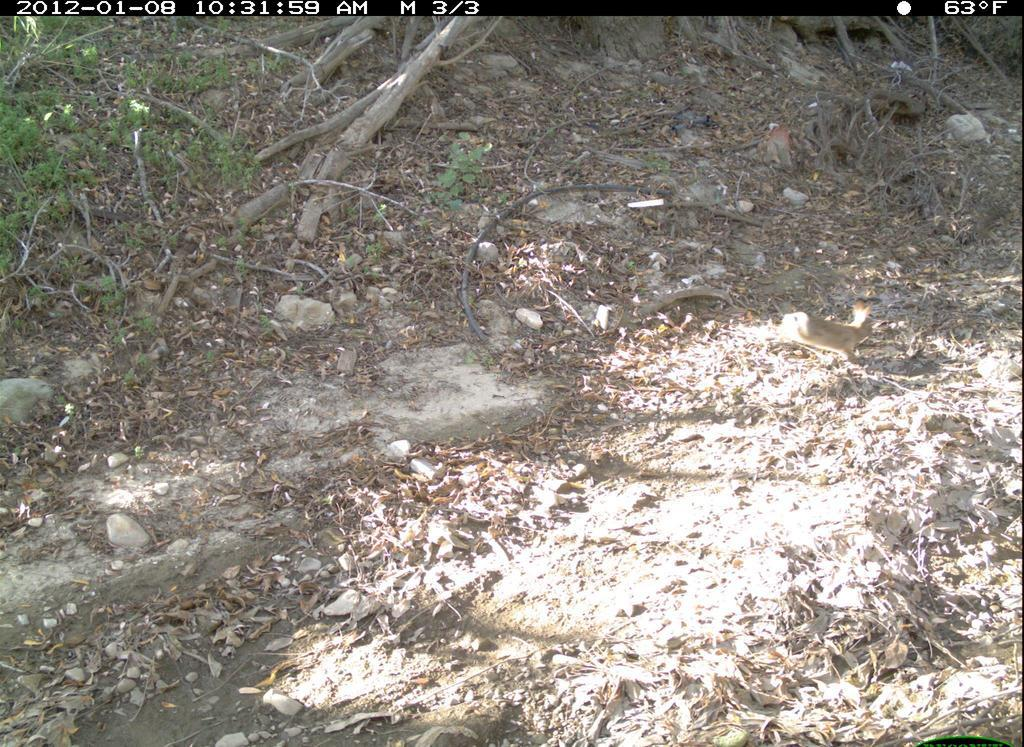rabbit: (775, 286, 885, 372)
